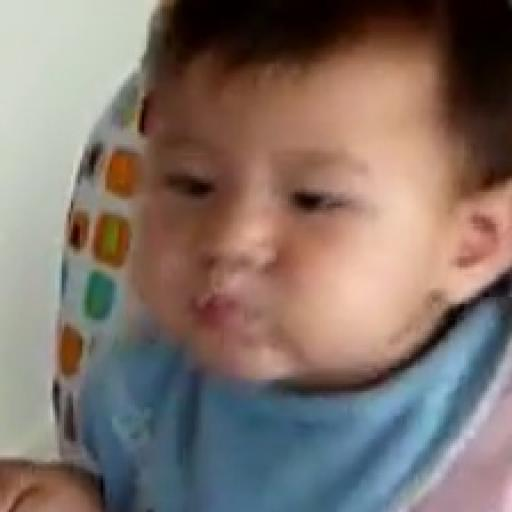Autism: (130, 12, 512, 444)
